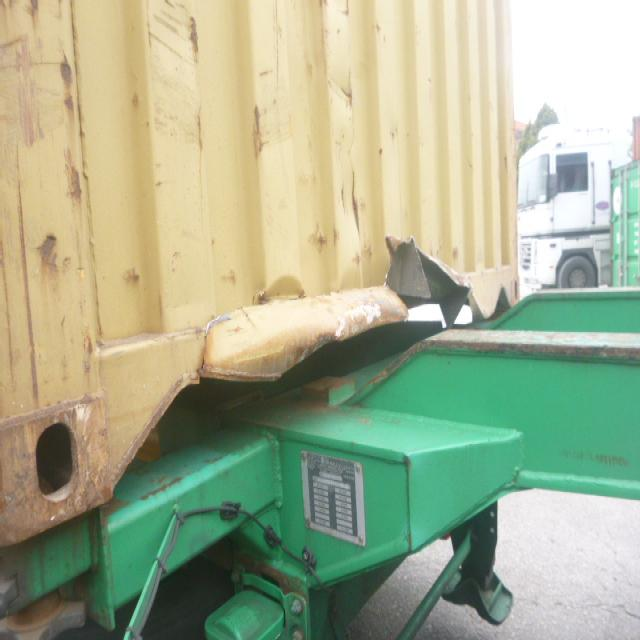dent: (255, 276, 307, 307)
